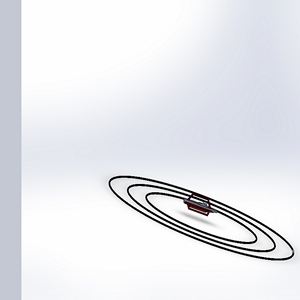circle: (96, 161, 300, 282)
submarine: (181, 183, 215, 225)
